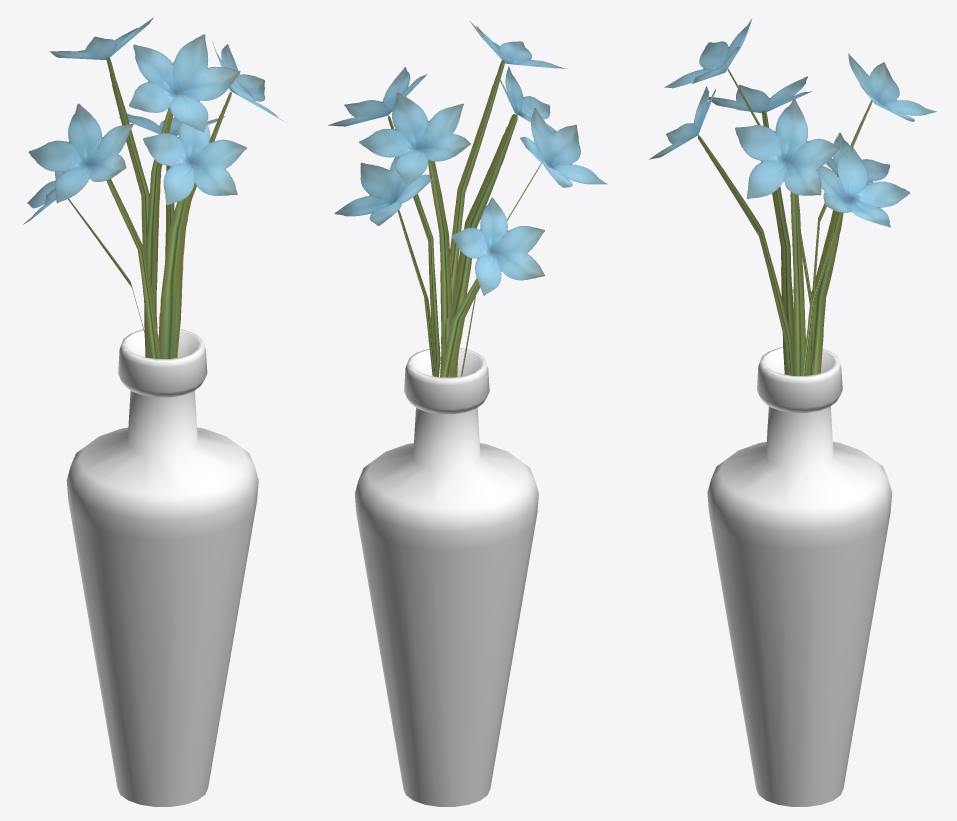
File: SM_Potted_Blue_Flower_D.fbx
3 renders of one model, left to right at view 1: azimuth 30°, elevation 25°; view 2: azimuth 150°, elevation 25°; view 3: azimuth 270°, elevation 25°, orthographic. The views are drawn at different scales.
Visible parts, largest first — view 1: SM_Potted_Blue_Flower_D_LOD0; view 2: SM_Potted_Blue_Flower_D_LOD0; view 3: SM_Potted_Blue_Flower_D_LOD0.
Boxes of the visible parts, x1,y1,x2,y2 form: SM_Potted_Blue_Flower_D_LOD0: [23, 17, 284, 806]; SM_Potted_Blue_Flower_D_LOD0: [328, 21, 607, 806]; SM_Potted_Blue_Flower_D_LOD0: [649, 18, 936, 806].
Bounding box in the file's own units: 22.83 × 23.05 × 64.65.
2 materials, 1 textured.
